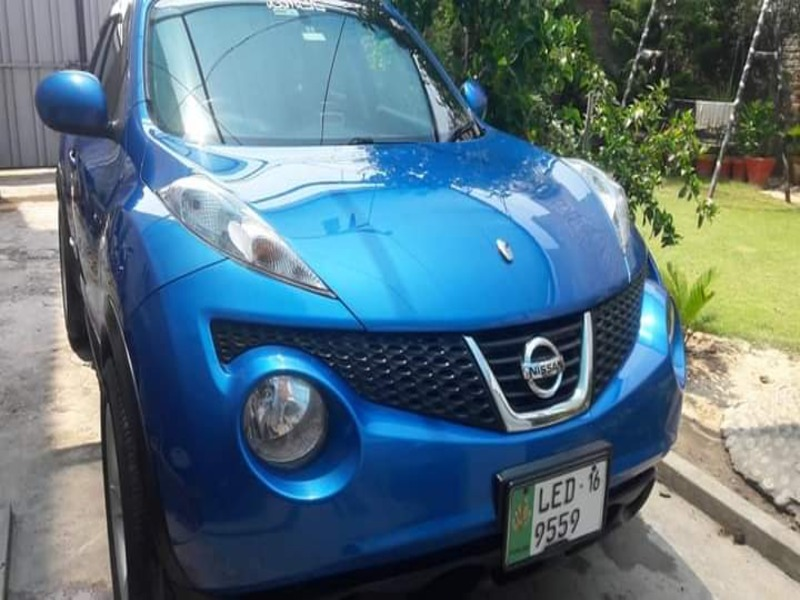License Plate: (502, 459, 614, 570)
